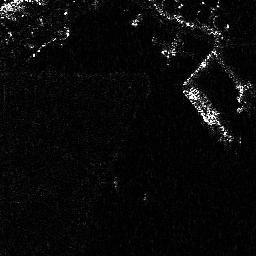ship: (181, 87, 216, 127)
